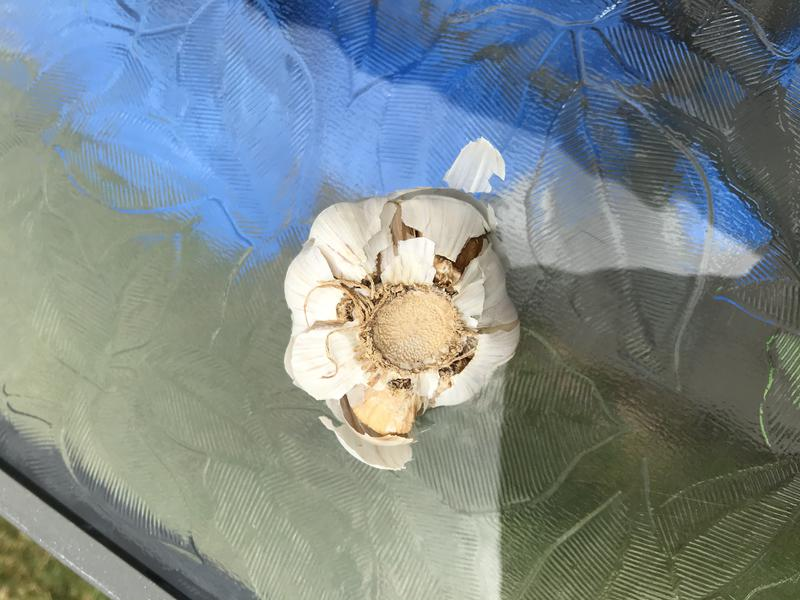garlic: (278, 181, 528, 478)
